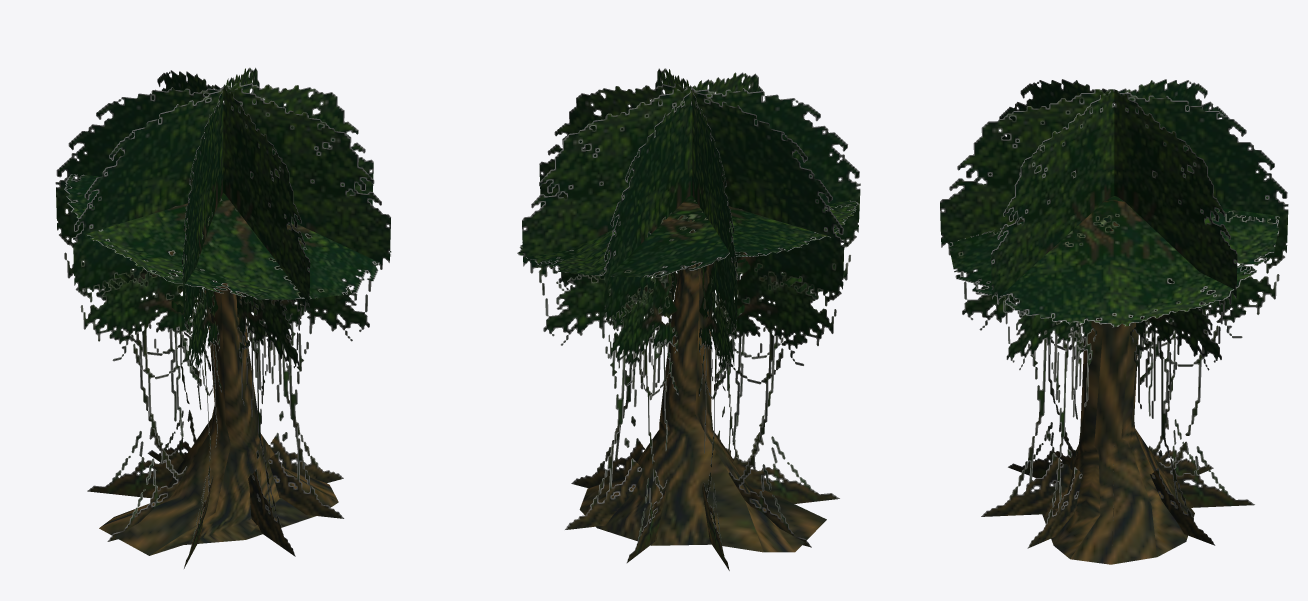
Rendered from jungle_tree3.obj.
3 views of the same model, side by side, from view 1: azimuth 30°, elevation 25°; view 2: azimuth 150°, elevation 25°; view 3: azimuth 270°, elevation 25° (orthographic).
Visible parts, largest first — view 1: jungle_tree3; view 2: jungle_tree3; view 3: jungle_tree3.
Boxes of the visible parts, x1,y1,x2,y2 form: jungle_tree3: (55, 67, 391, 568); jungle_tree3: (517, 68, 860, 570); jungle_tree3: (940, 79, 1288, 564).
Size of the model in its own units: 17.55 by 23.18 by 17.51.
Materials: 1 (1 with a texture image).
